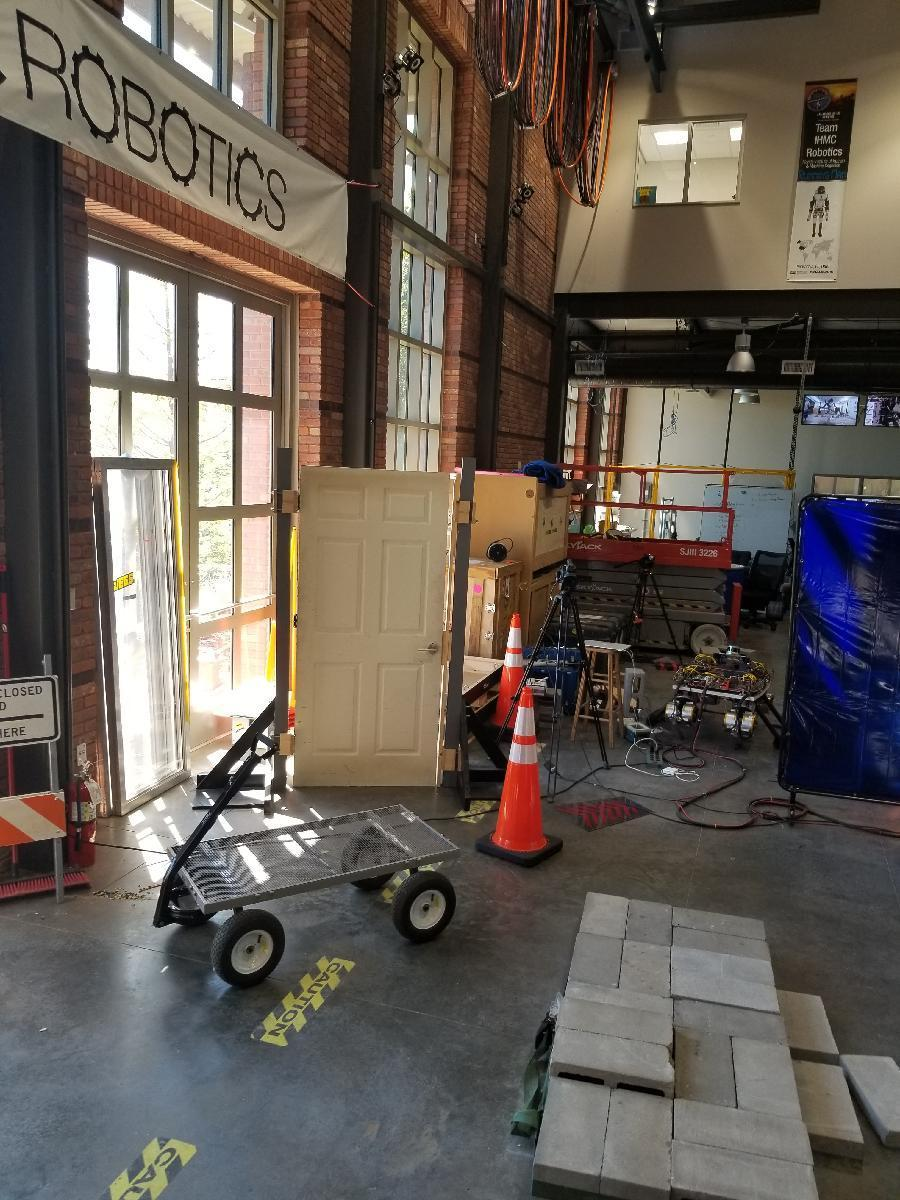door: (294, 468, 444, 789)
handle: (418, 641, 440, 656)
